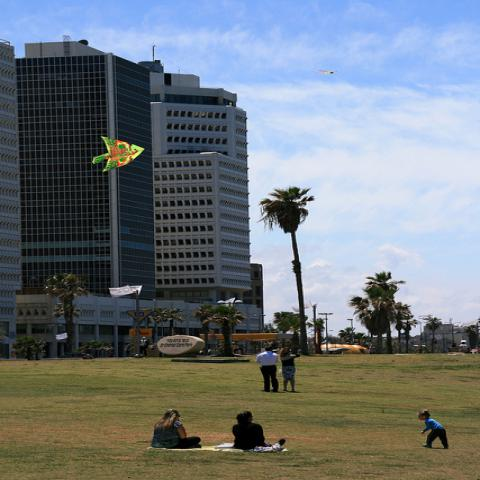car: (413, 344, 427, 348)
